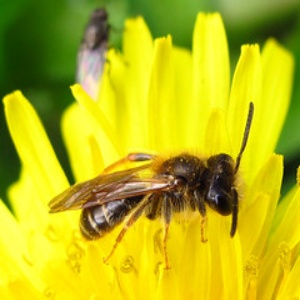bee: (46, 149, 246, 247)
